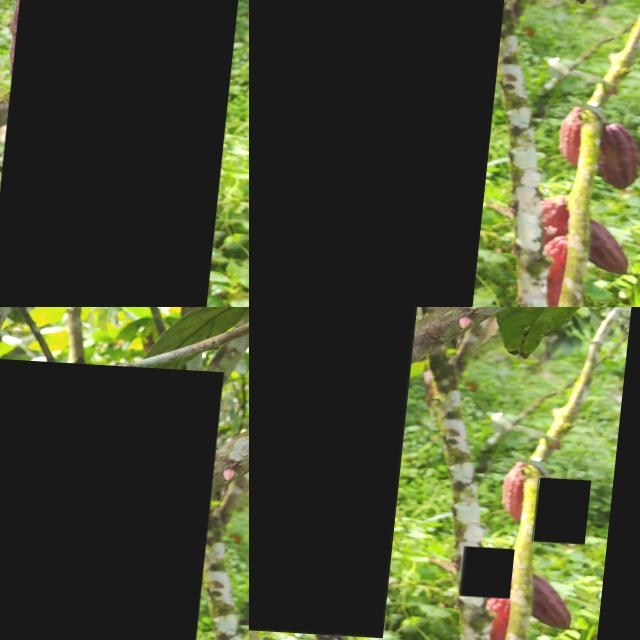Sana: (249, 0, 517, 307), (0, 0, 244, 307), (0, 352, 225, 640), (249, 307, 423, 632), (517, 560, 588, 624), (541, 470, 598, 537), (469, 540, 523, 592), (477, 582, 522, 640), (507, 455, 541, 518)
